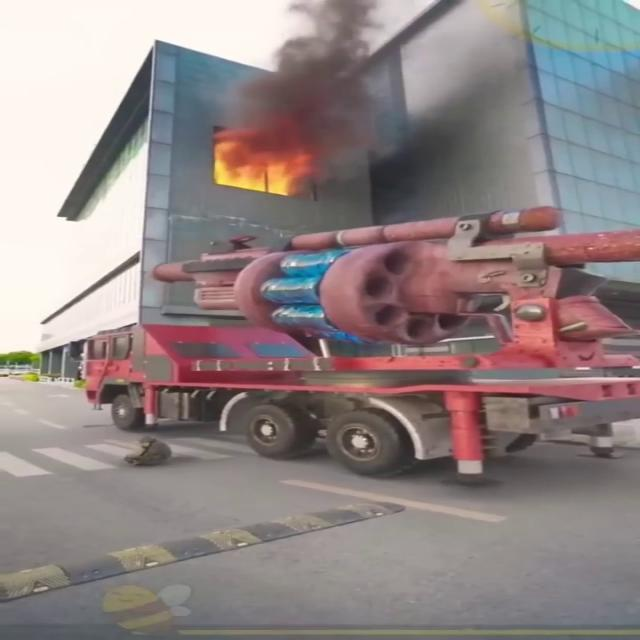Fire: (209, 130, 314, 200)
Smoke: (223, 0, 565, 193)
